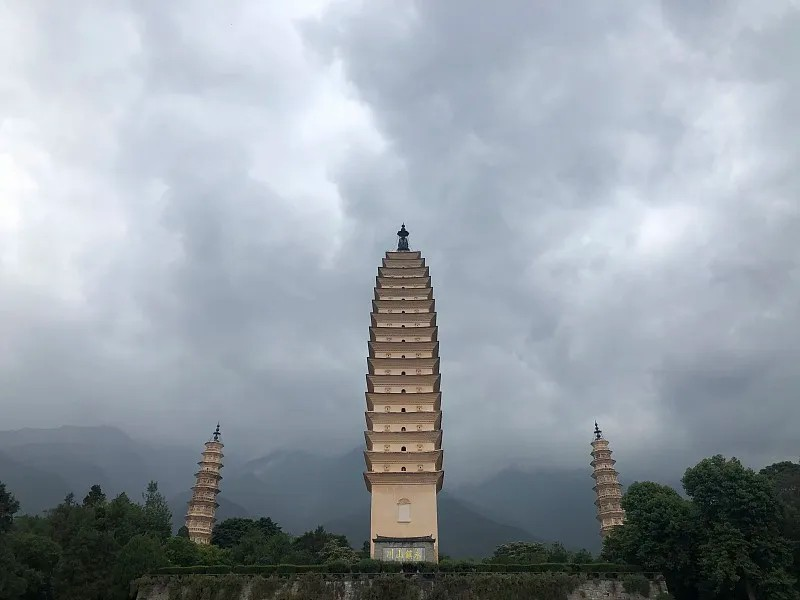ThreePagoda: (362, 222, 444, 564)
